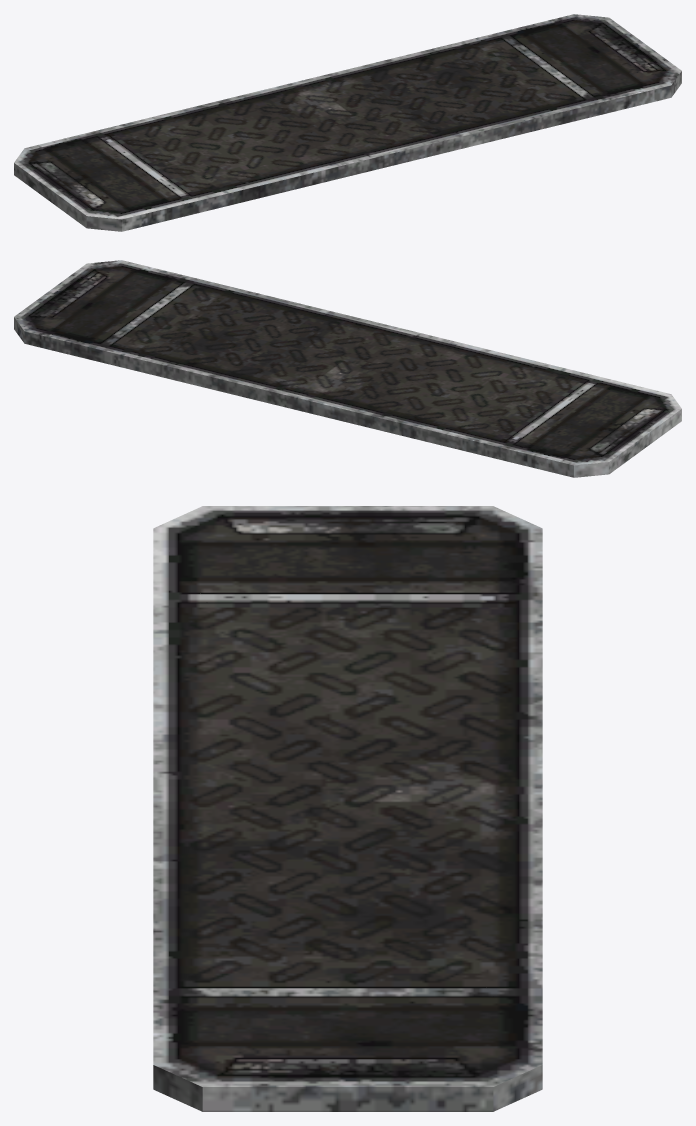
The model's file is catwalk_white_step.dae.
3 views of the same model, one above another, from view 1: azimuth 30°, elevation 25°; view 2: azimuth 150°, elevation 25°; view 3: azimuth 270°, elevation 25° (orthographic). The views are drawn at different scales.
Parts seen in each view (by area): view 1: step; view 2: step; view 3: step.
Part boxes in pixels (x1,y1,x2,y2): step: (14,14,681,231); step: (14,260,681,477); step: (153,506,542,1111).
Bounding box in the file's own units: 1.76 × 0.035 × 0.5.
